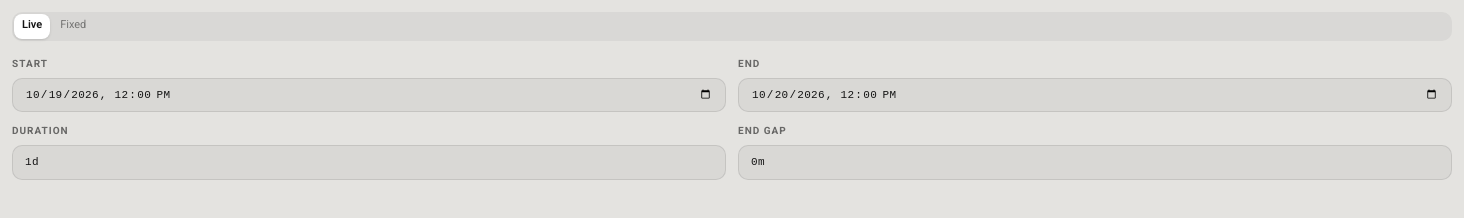
the fields › an invalid draft stays on screen with the Posts editor's error
Replace the text in the field labelled "Duration" with "half a day". click: (369, 162)
box: x1=12 y1=145 x2=726 y2=180
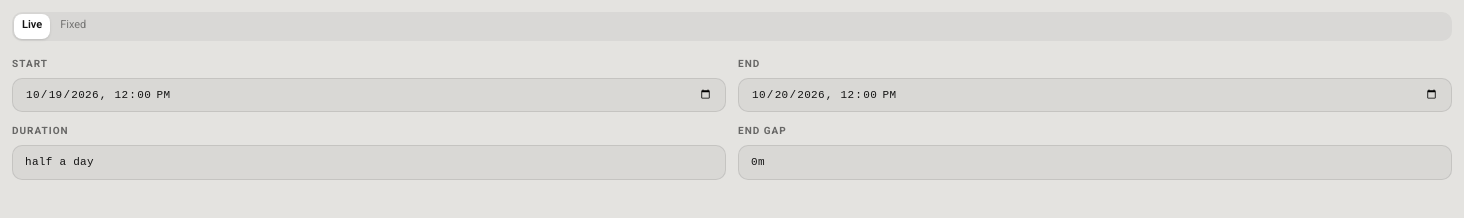
Press Enter in the field labelled "Duration", box x1=12 y1=145 x2=726 y2=180
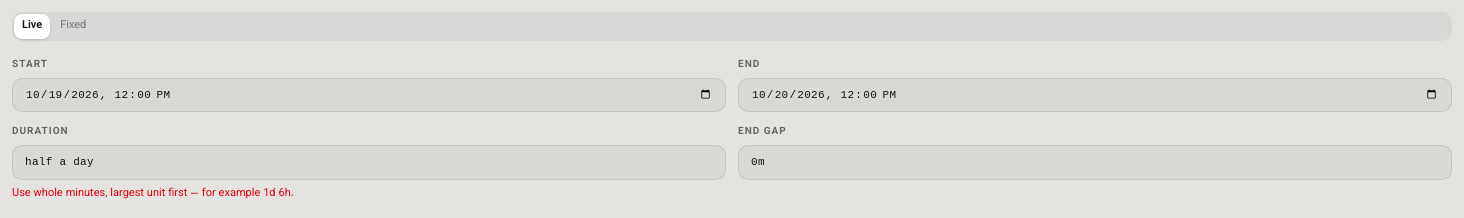
Now the message shows "whole minutes", box x1=12 y1=184 x2=294 y2=202
